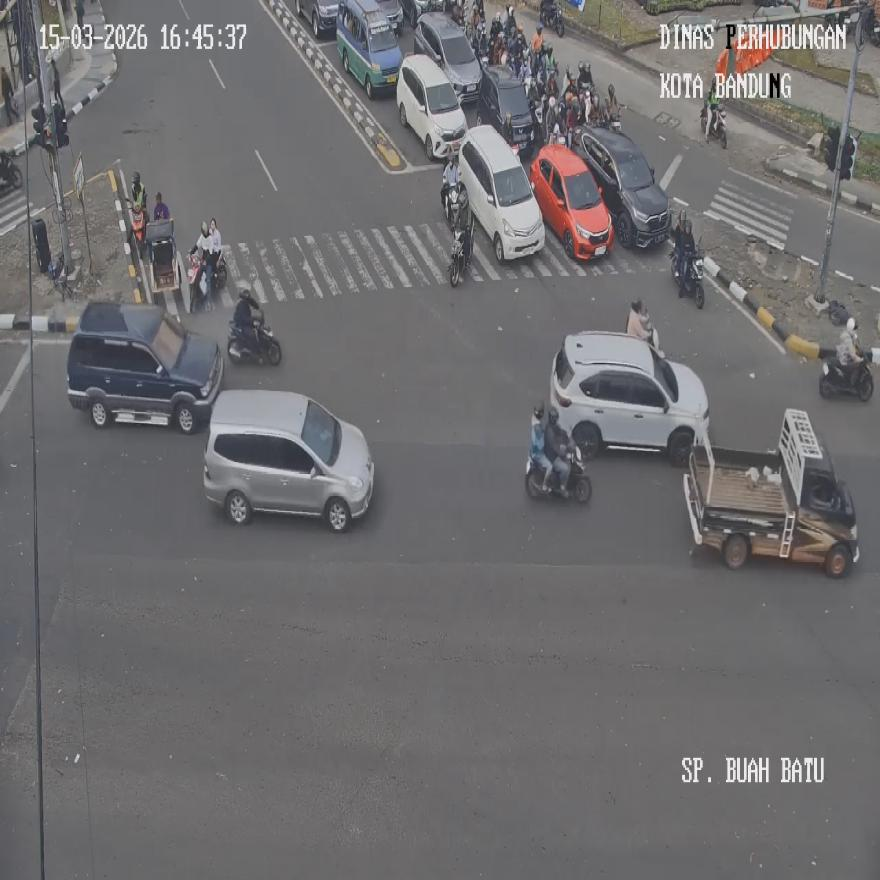Motor: (682, 407, 859, 576), (202, 389, 373, 530), (548, 330, 709, 467), (66, 300, 224, 432), (457, 123, 545, 260), (579, 127, 671, 248), (530, 143, 614, 260), (397, 51, 468, 162), (336, 0, 402, 99), (412, 12, 482, 105)
Truk: (527, 448, 591, 502), (820, 352, 873, 400), (227, 317, 281, 364), (670, 242, 704, 308), (448, 224, 473, 286), (186, 252, 209, 314), (700, 100, 727, 149), (442, 178, 463, 230), (858, 2, 880, 46), (603, 83, 622, 133), (0, 150, 22, 193), (539, 1, 563, 37), (579, 84, 598, 126)
